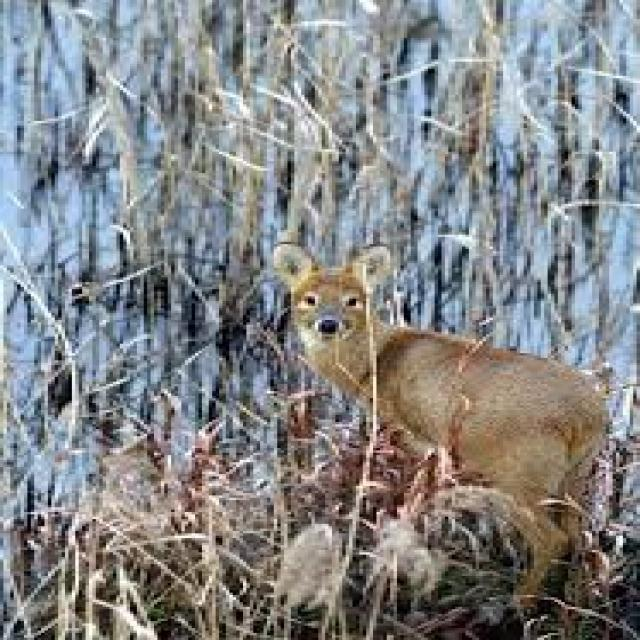elk: (241, 238, 640, 640)
